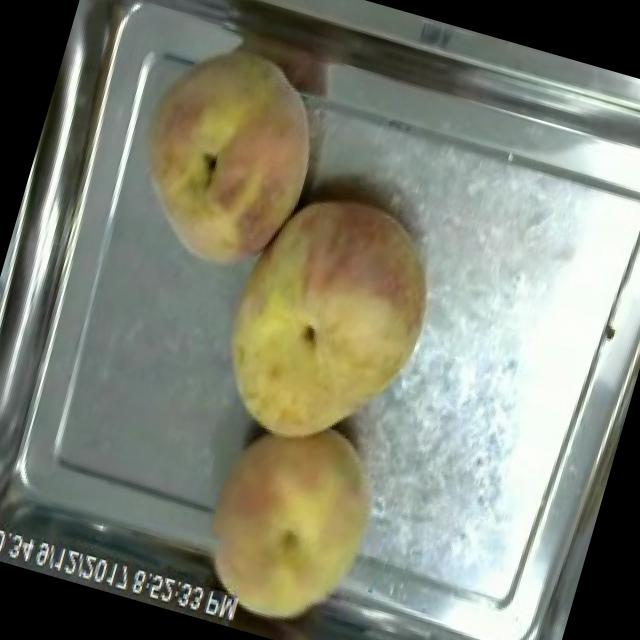Fruit: (194, 170, 459, 474), (88, 16, 346, 291), (180, 397, 404, 640)
